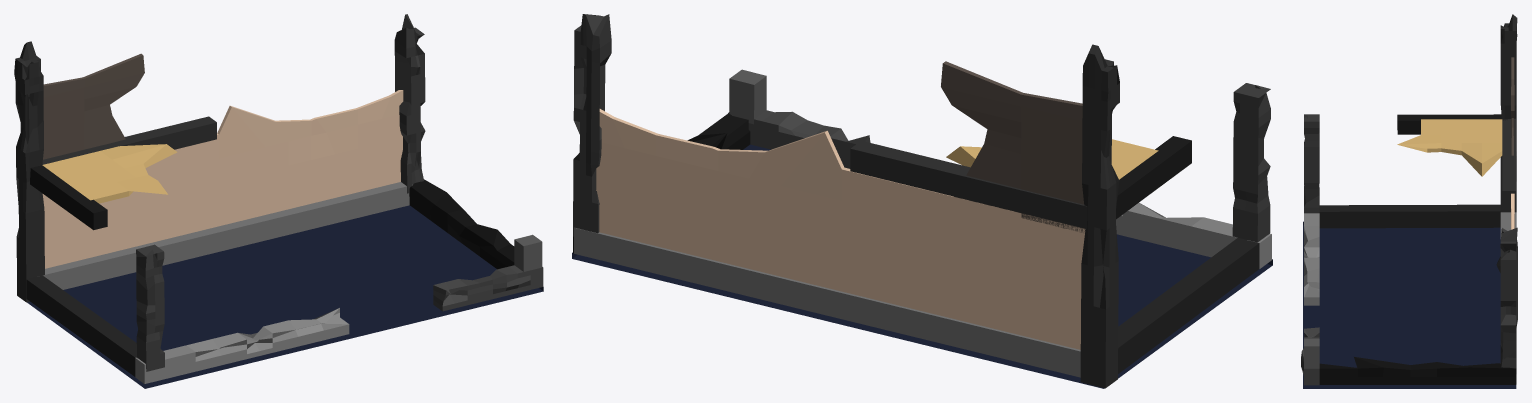
The model's file is Building 1.fbx.
The picture shows the model from 3 angles, left to right: view 1: azimuth 30°, elevation 25°; view 2: azimuth 150°, elevation 25°; view 3: azimuth 270°, elevation 25°; orthographic projection. The views are drawn at different scales.
Visible parts, largest first — view 1: Cube.005; view 2: Cube.005; view 3: Cube.005.
Boxes of the visible parts, x1,y1,x2,y2 form: Cube.005: (14, 14, 543, 388); Cube.005: (572, 14, 1272, 388); Cube.005: (1301, 14, 1517, 388).
Size of the model in its own units: 5001 by 3002 by 2759.
